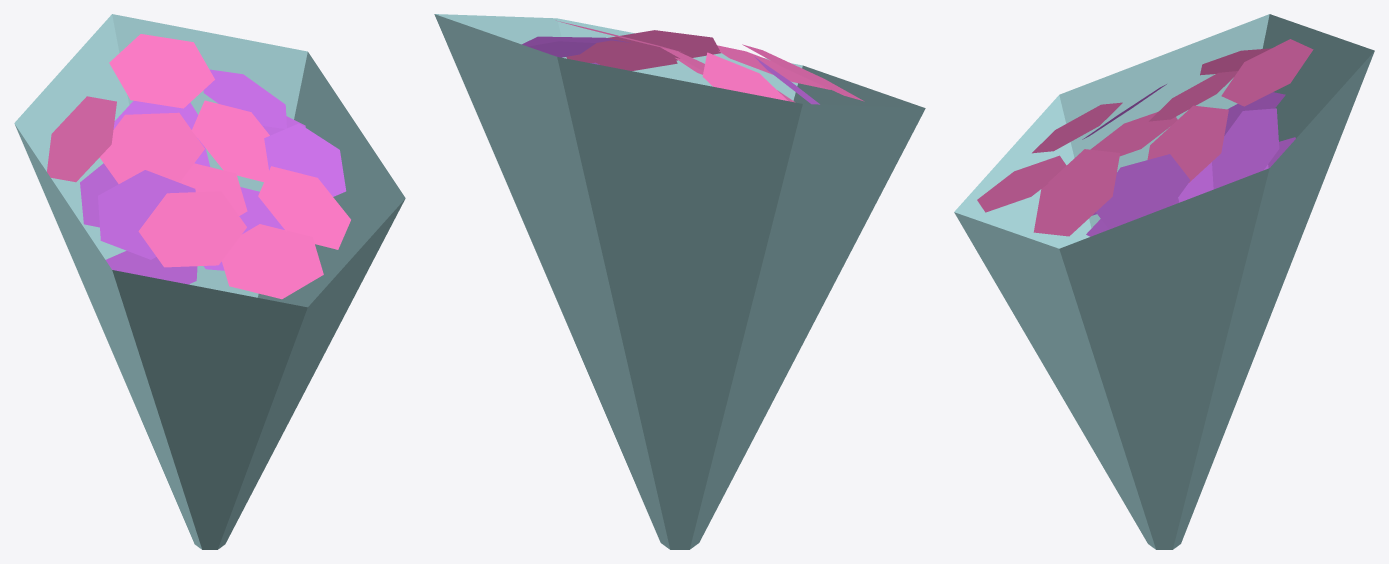
The model's file is Flower.fbx.
The picture shows the model from 3 angles, left to right: view 1: azimuth 30°, elevation 25°; view 2: azimuth 150°, elevation 25°; view 3: azimuth 270°, elevation 25°; orthographic projection. The views are drawn at different scales.
Parts seen in each view (by area): view 1: Flower; view 2: Flower; view 3: Flower.
Part boxes in pixels (x1,y1,x2,y2): Flower: (14,14,405,549); Flower: (434,14,925,549); Flower: (954,14,1374,549).
Size of the model in its own units: 167 by 250 by 193.
